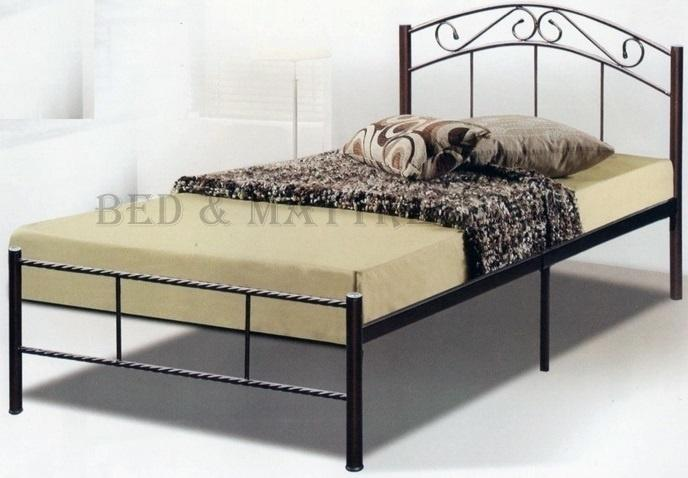bed: (0, 6, 667, 478)
light: (235, 0, 338, 148)
